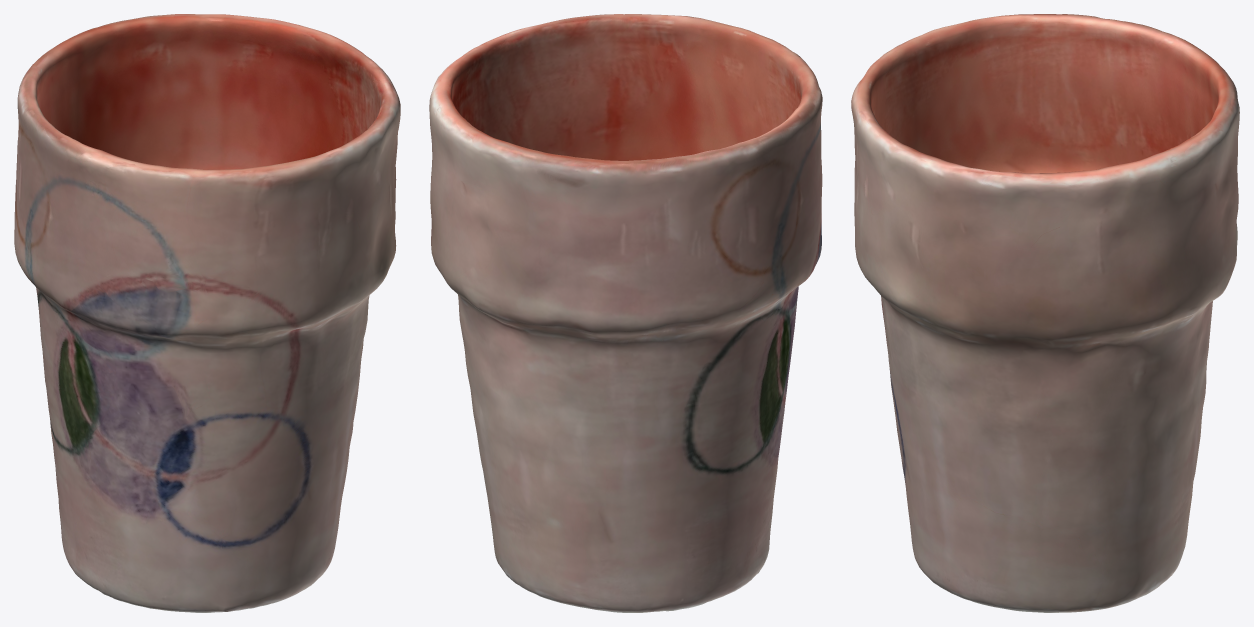
3 views of the same model, side by side, from view 1: azimuth 30°, elevation 25°; view 2: azimuth 150°, elevation 25°; view 3: azimuth 270°, elevation 25° (orthographic).
Bounding box in the file's own units: 0.0764 × 0.1038 × 0.077.
1 material, 1 textured.
